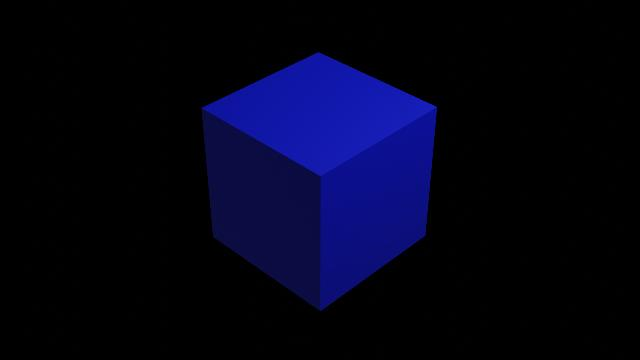Cube: (192, 46, 450, 316)
